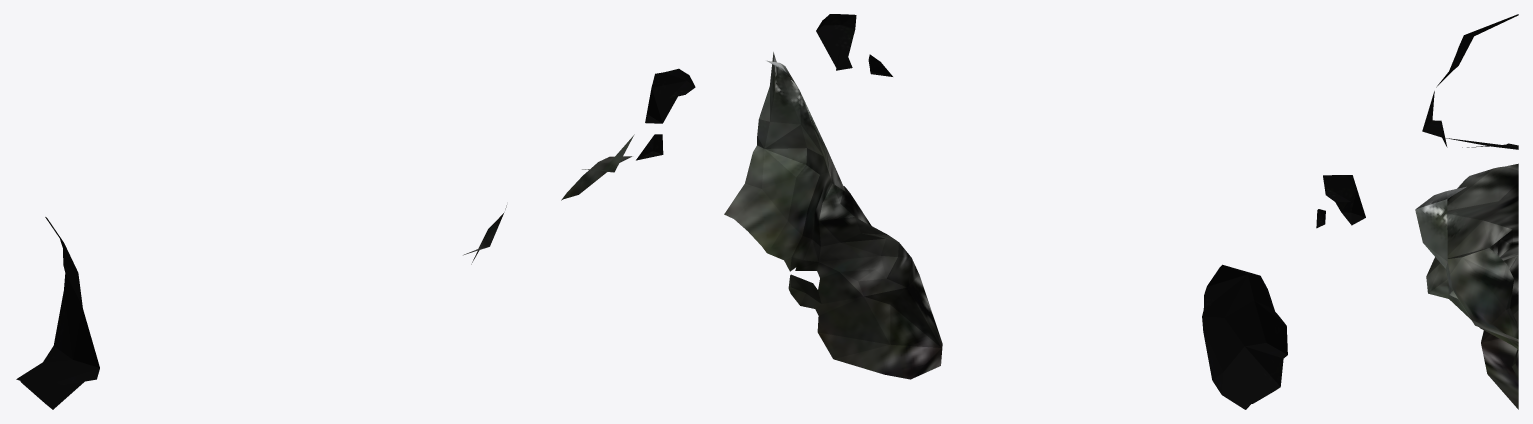
The picture shows the model from 3 angles, left to right: view 1: azimuth 30°, elevation 25°; view 2: azimuth 150°, elevation 25°; view 3: azimuth 270°, elevation 25°; orthographic projection. The views are drawn at different scales.
Size of the model in its own units: 1.67 by 0.8005 by 0.5362.
Materials: 1 (1 with a texture image).
